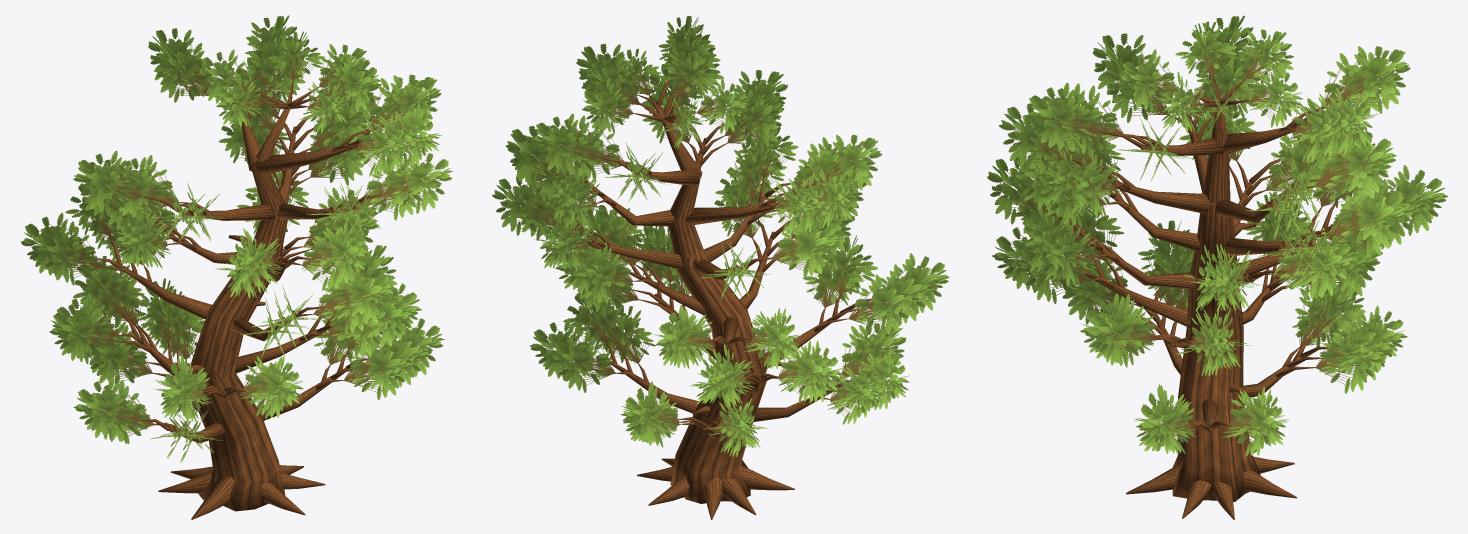
The model's file is AncientOak_LOD0.glb.
The picture shows the model from 3 angles, left to right: view 1: azimuth 30°, elevation 25°; view 2: azimuth 150°, elevation 25°; view 3: azimuth 270°, elevation 25°; orthographic projection. The views are drawn at different scales.
Visible parts, largest first — view 1: SM_AncientOak_Foliage_LOD0, SM_AncientOak_Bark_LOD0; view 2: SM_AncientOak_Foliage_LOD0, SM_AncientOak_Bark_LOD0; view 3: SM_AncientOak_Foliage_LOD0, SM_AncientOak_Bark_LOD0.
Boxes of the visible parts, box(x1,y1,x2,y2) form: SM_AncientOak_Foliage_LOD0: box(21, 15, 452, 462); SM_AncientOak_Bark_LOD0: box(96, 74, 383, 519); SM_AncientOak_Foliage_LOD0: box(492, 16, 949, 457); SM_AncientOak_Bark_LOD0: box(561, 74, 872, 519); SM_AncientOak_Foliage_LOD0: box(987, 15, 1447, 456); SM_AncientOak_Bark_LOD0: box(1054, 74, 1338, 519).
Size of the model in its own units: 7.5 by 8.13 by 7.47.
Materials: 2 (2 with a texture image).
